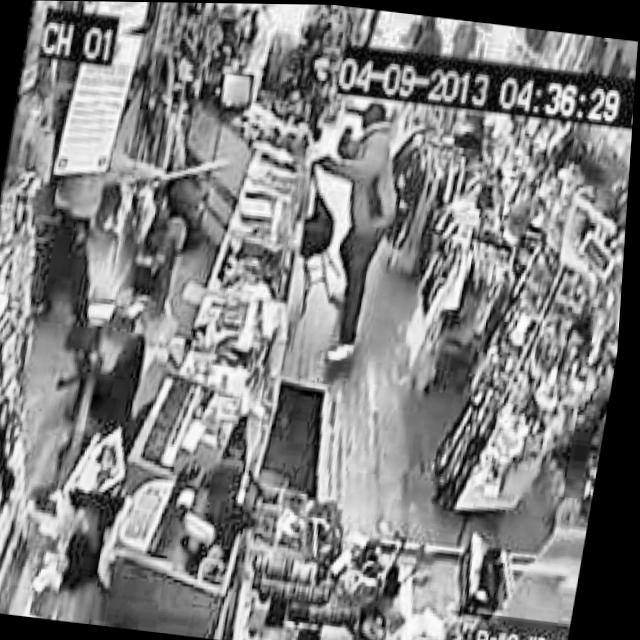robbery: (279, 93, 417, 368), (49, 131, 237, 234)
